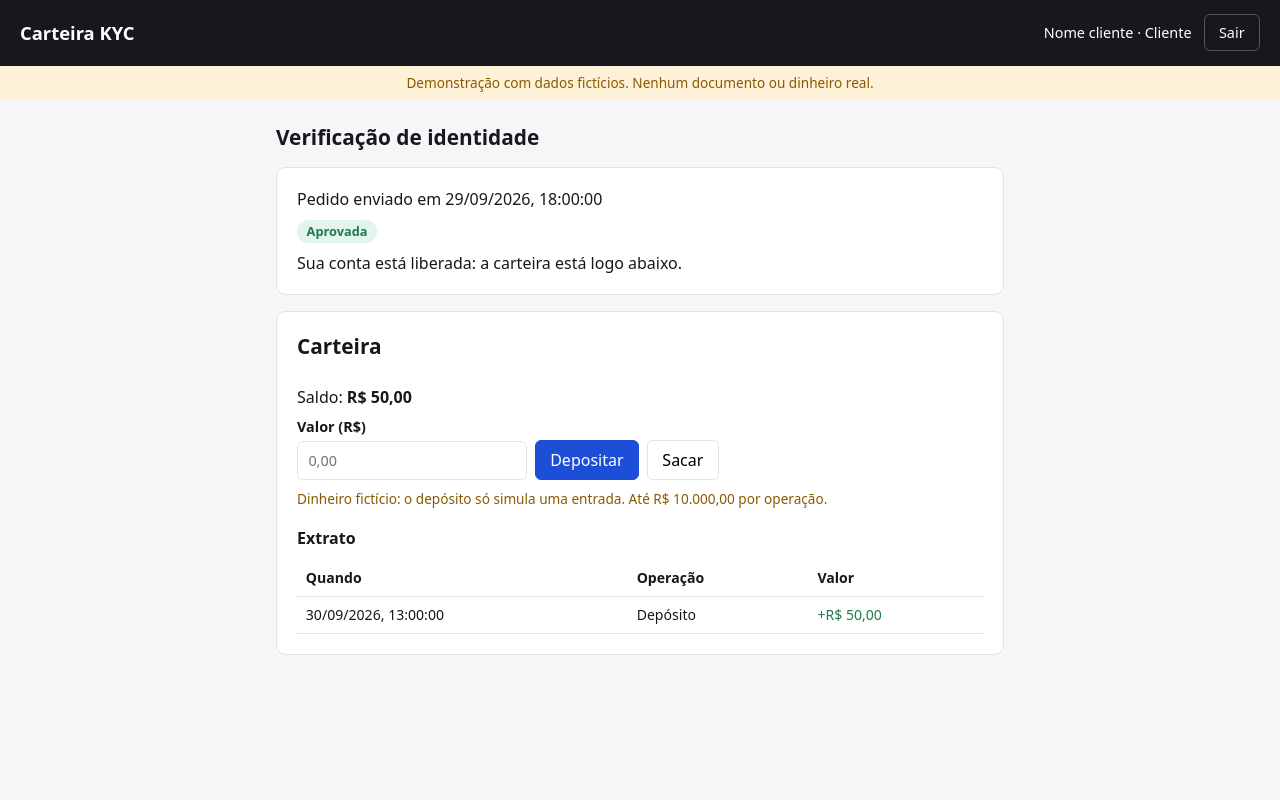
it: carteira › depois de falha de rede, repetir a operação reaproveita a chave
In the field labelled "Valor (R$)": (412, 460) x1=297 y1=441 x2=527 y2=480, type "10"
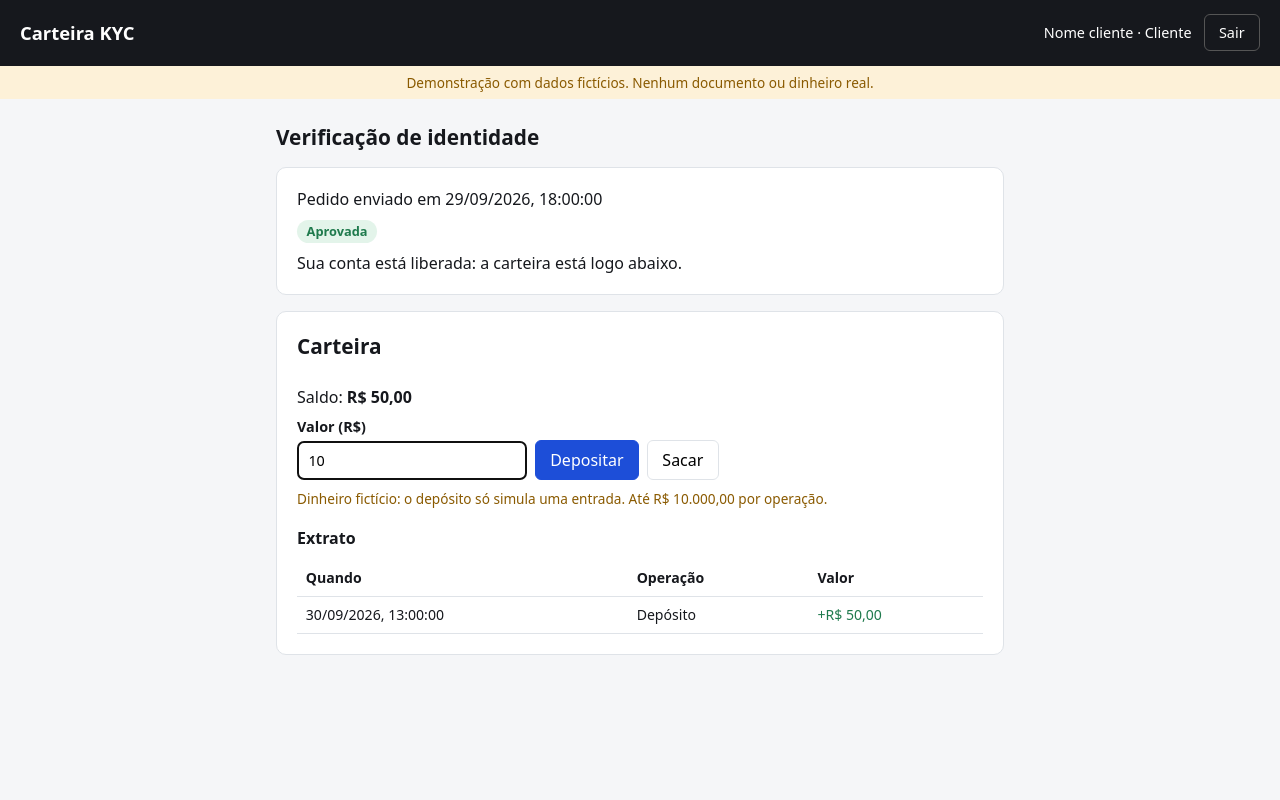
Click the button "Sacar": (683, 460) x1=647 y1=440 x2=719 y2=480
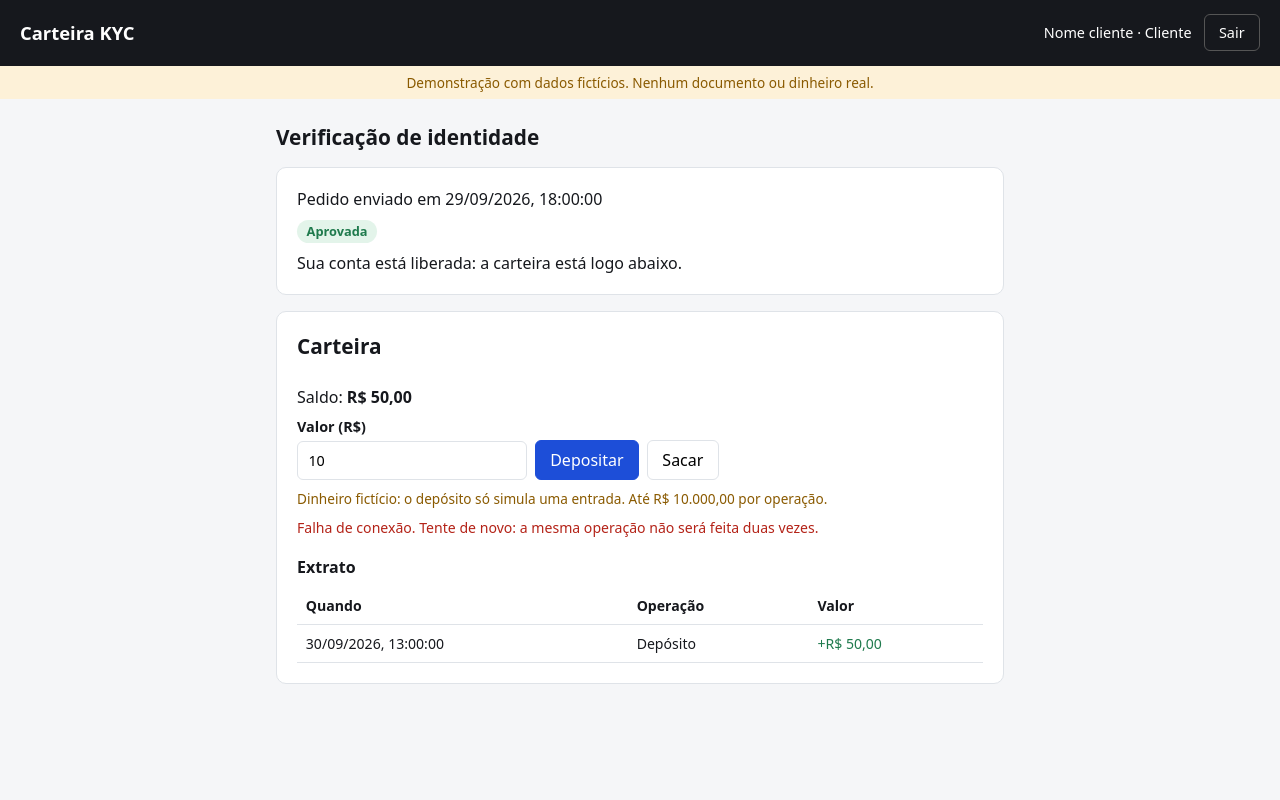
Check: the message shows "não será feita duas vezes", box x1=297 y1=518 x2=818 y2=537
Click the button "Sacar": (683, 460) x1=647 y1=440 x2=719 y2=480
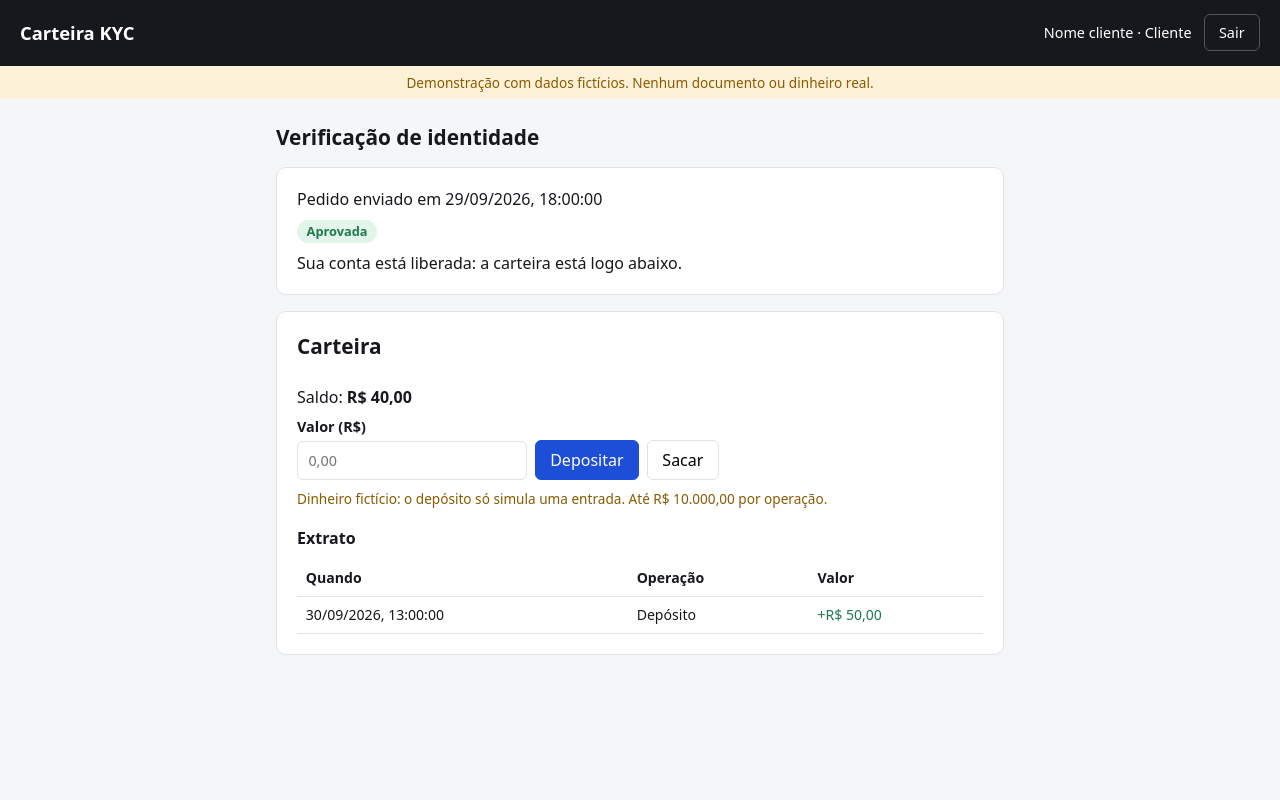
Check: the text with test id "saldo" shows "40,00", box x1=347 y1=386 x2=412 y2=408
